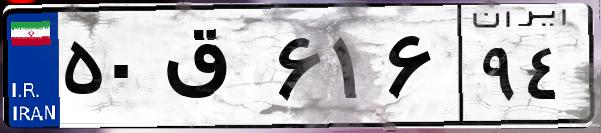0: (110, 28, 158, 98)
1: (330, 28, 385, 110)
4: (525, 38, 570, 115)
5: (57, 26, 110, 100)
6: (270, 28, 330, 110), (385, 28, 445, 110)
9: (475, 38, 525, 113)
ق: (158, 20, 270, 120)
